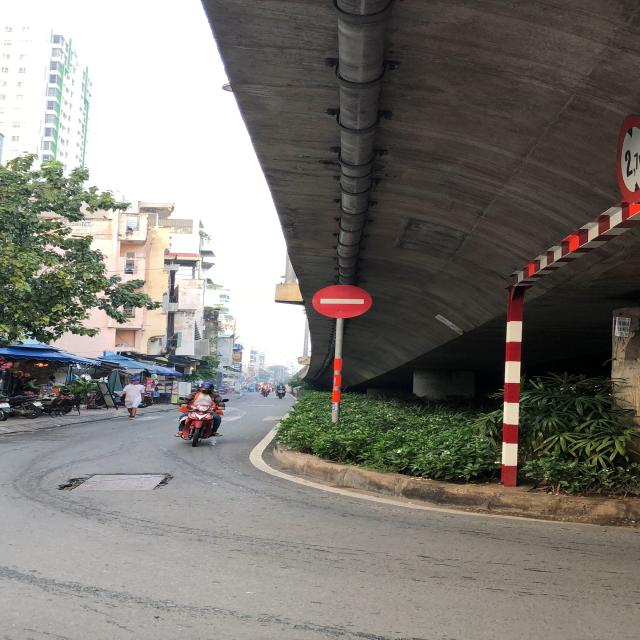Bien bao cam di nguoc chieu: (294, 278, 387, 322)
